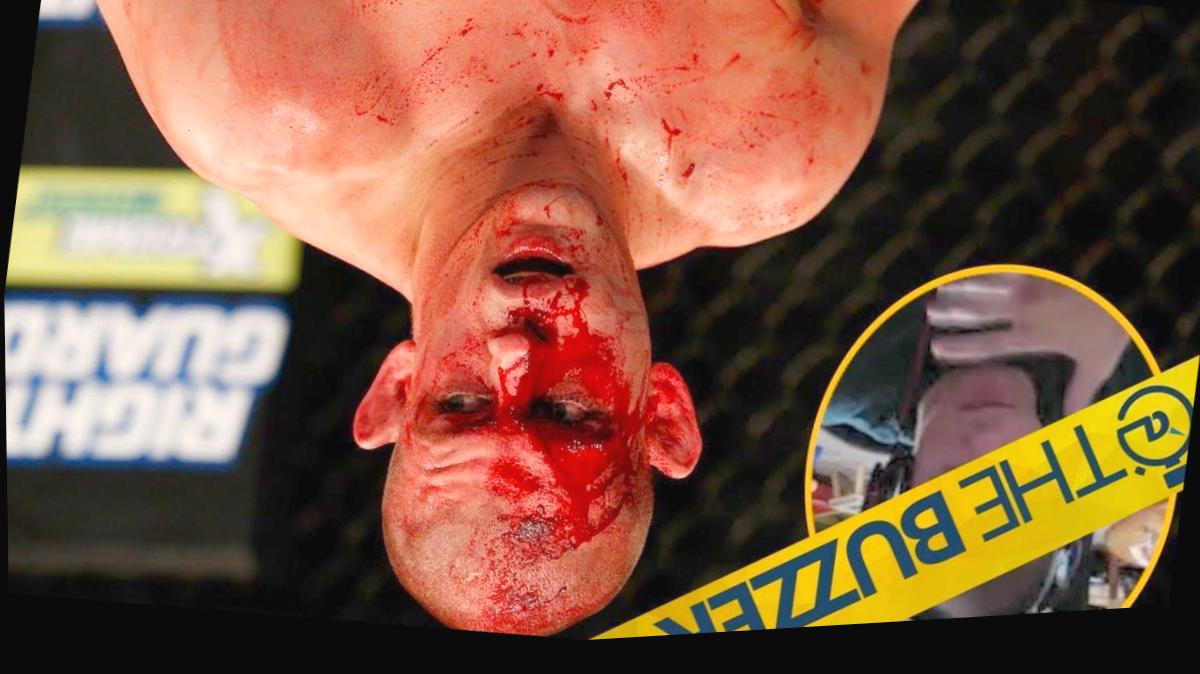Fire: (213, 0, 873, 272), (382, 190, 699, 643)
